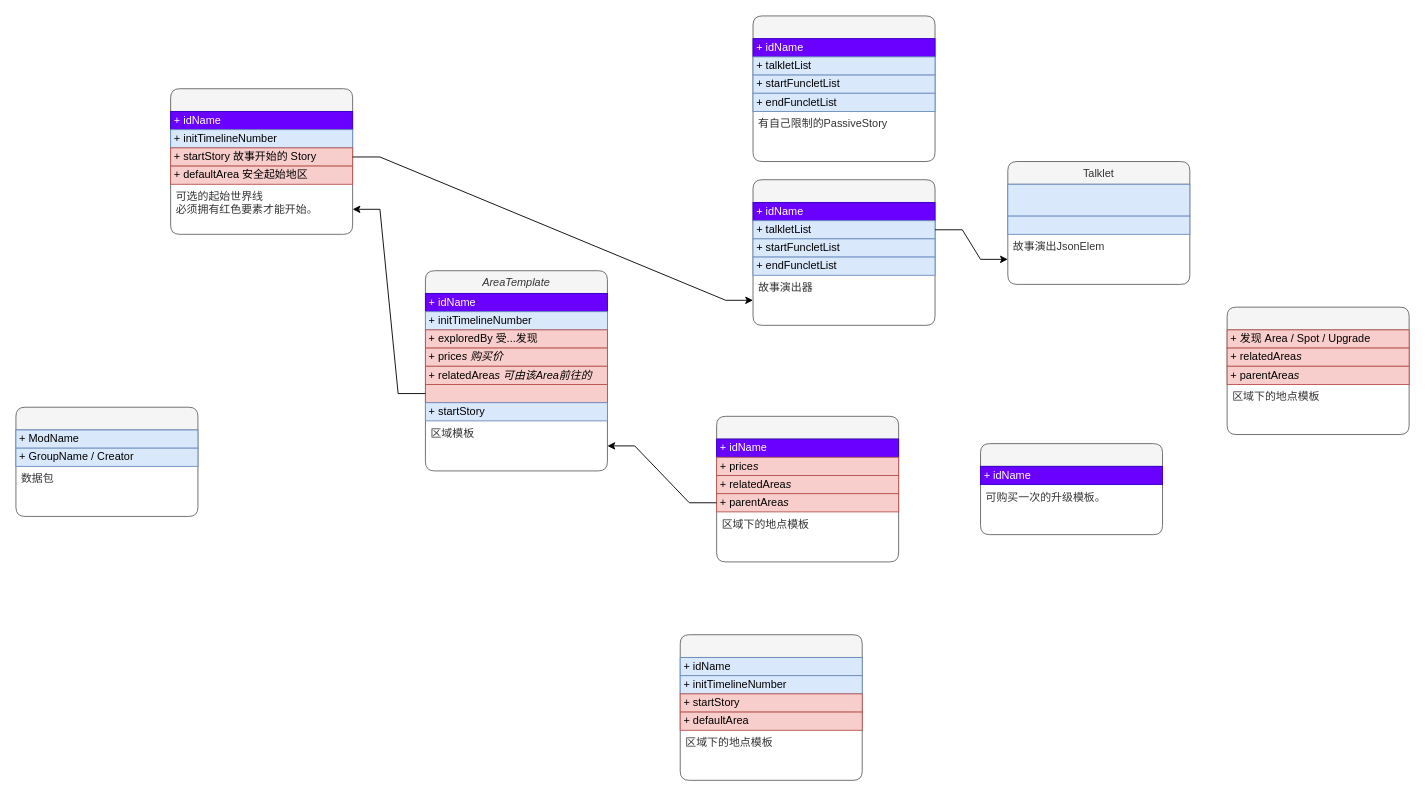
Some shapes in this 1425 by 796 pixel diagram are drawn without their labels. Each missing label, with the box of its shape:
+ funclist?: (1007, 215, 1190, 234)
+ parentInit: (425, 384, 607, 403)
+ talkletType: 一般对话、一般描述、文学描述、选择、条件选择: (1007, 183, 1190, 216)
Datapack: (15, 406, 198, 516)
InitTemplate: (170, 88, 353, 234)
PassiveStoryTemplate: (752, 15, 935, 162)
SpotTemplate: (716, 415, 899, 562)
StoryTemplate: (752, 179, 935, 325)
UpgradeTemplate: (980, 443, 1163, 535)
常见的行为: (1226, 306, 1409, 435)
